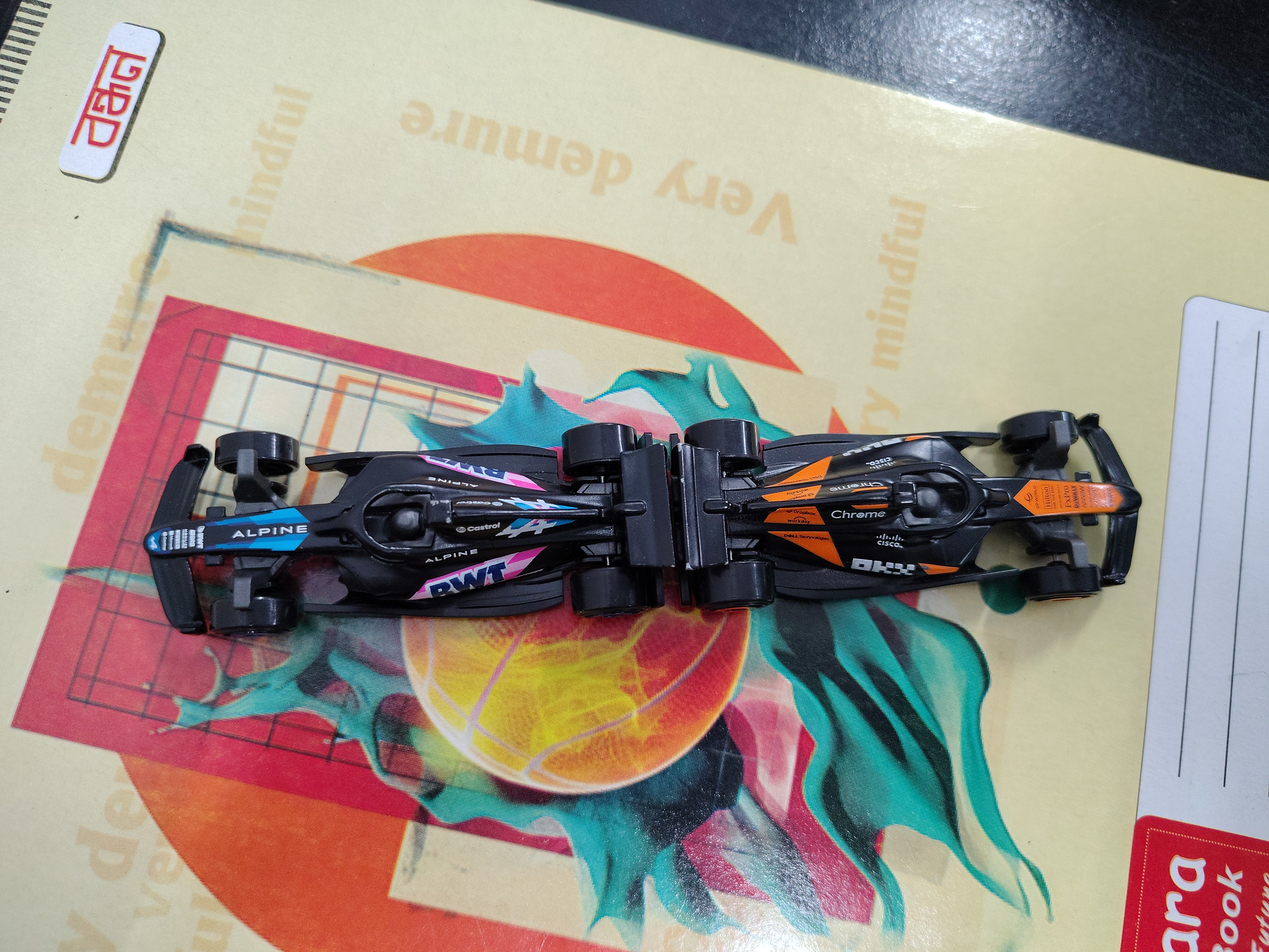Alpine A524: (71, 353, 630, 674)
McLaren MCL40: (603, 339, 1154, 638)
